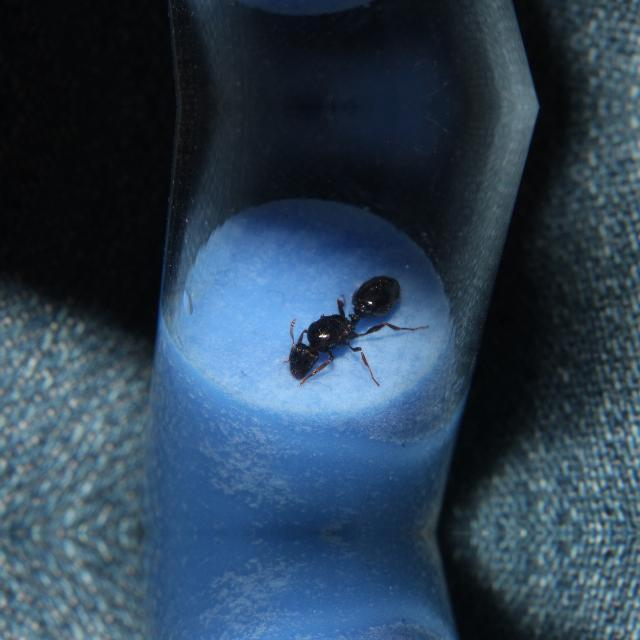Tetramorium: (261, 252, 419, 398)
